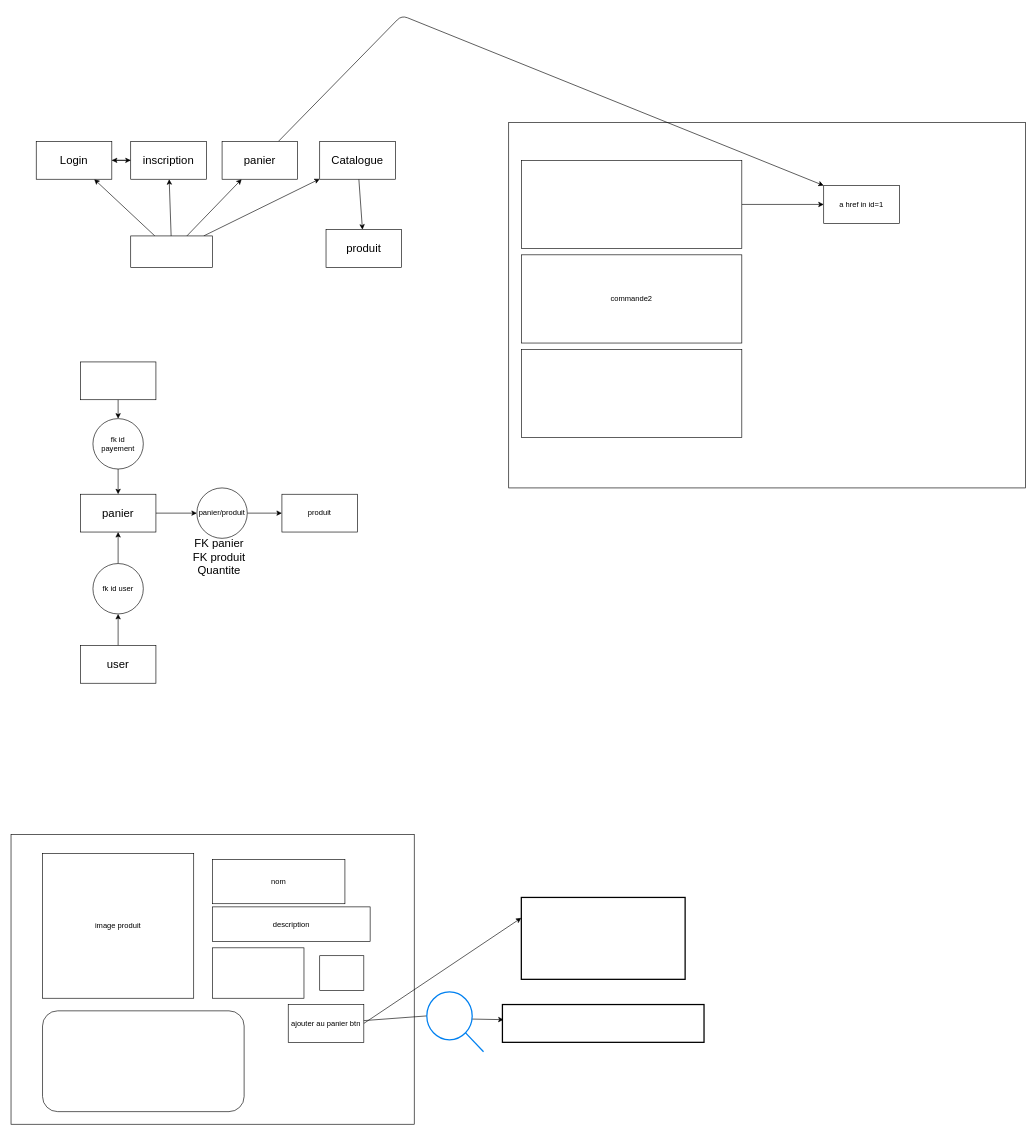
The diagram is 1036 pixels wide and 1135 high, and some of its shapes have lost their labels. The box of each missing label's shape, as (x1, y1, x2, y2) in pixels:
-/pb | nb | + | ajout panier: (501, 1004, 704, 1043)
Accueil: (130, 235, 213, 267)
autre champs: (42, 1010, 244, 1112)
commande1: (521, 160, 742, 249)
comportement du btn de base a 1 envoie sur commande_produit: (520, 896, 685, 980)
page user: (508, 122, 1025, 488)
payement: (80, 361, 156, 400)
prix: (212, 947, 304, 998)
QTE: (319, 955, 364, 990)
